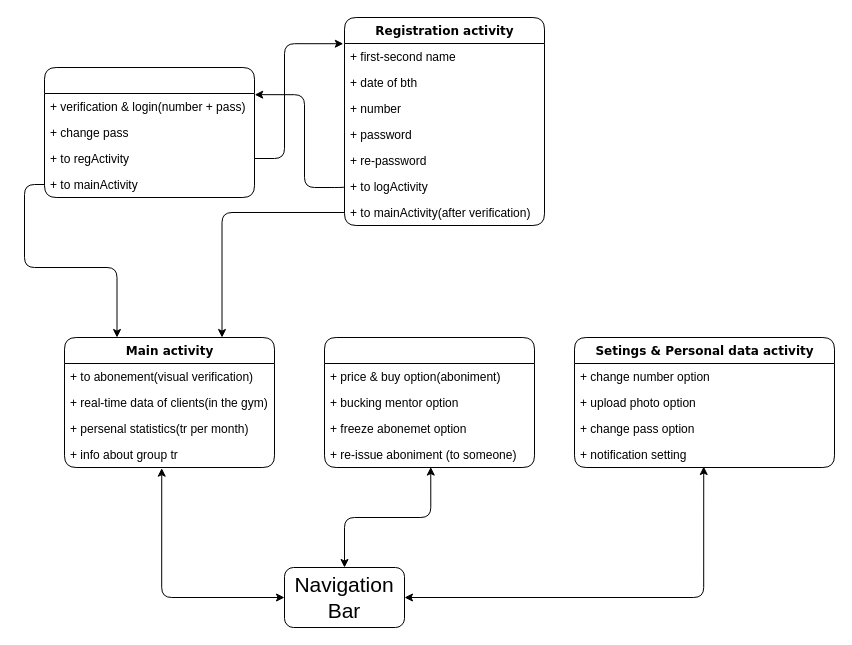
Image size: 852x645. Some labels were removed from this diagram. Here are the shapes that lost their labels. From the top down, the box of each, then its label:
(44, 66, 254, 198): Login activity
(324, 336, 534, 468): Service activity
